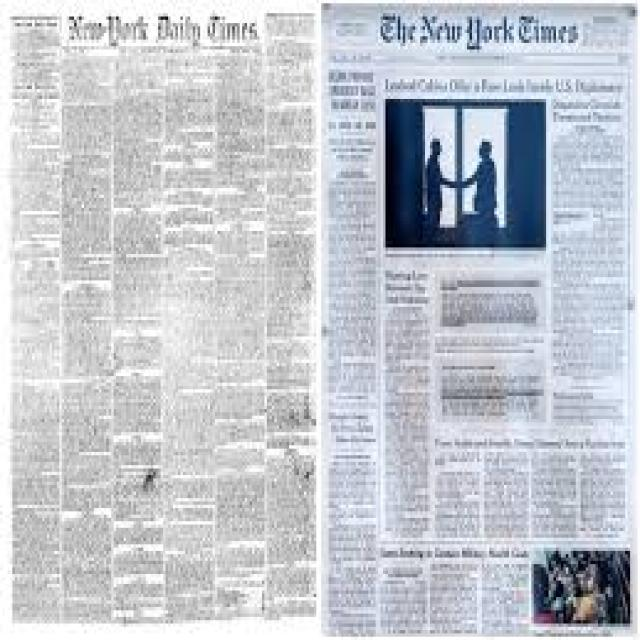paper: (5, 3, 640, 640)
